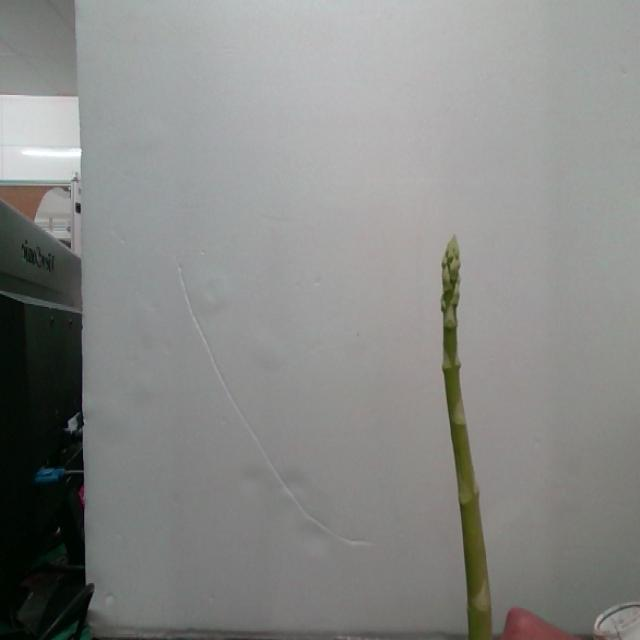aspargus: (441, 237, 494, 640)
